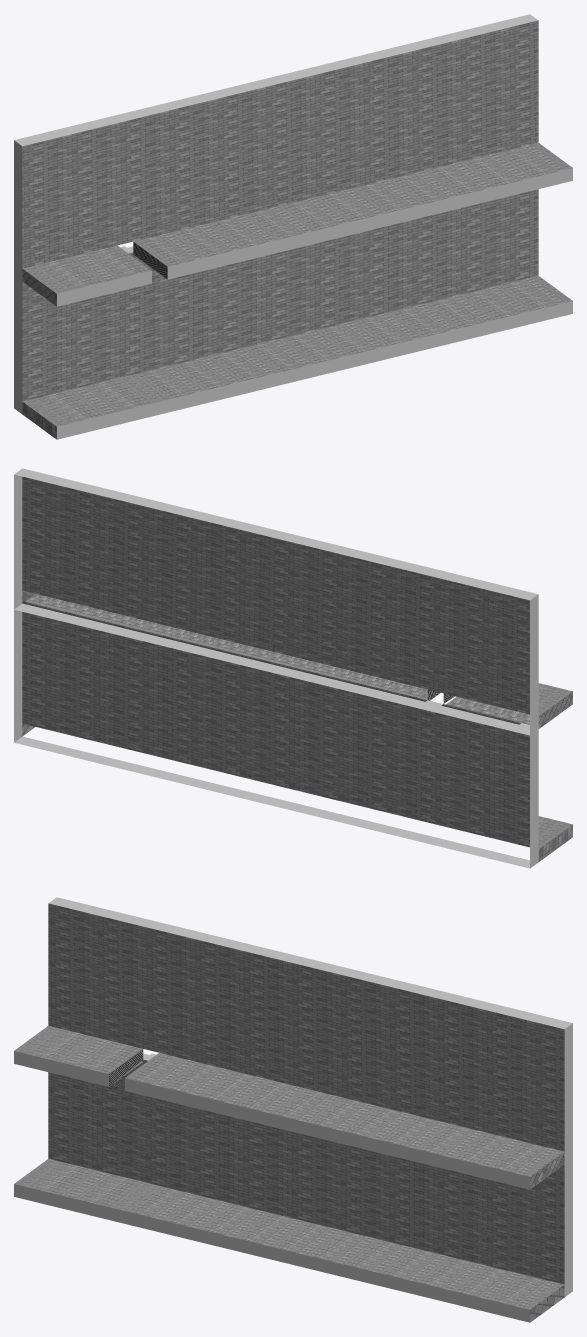
Rendered from dungeon.fbx.
3 renders of one model, top to bottom at view 1: azimuth 30°, elevation 25°; view 2: azimuth 150°, elevation 25°; view 3: azimuth 330°, elevation 25°, orthographic.
Parts seen in each view (by area): view 1: Mesh; view 2: Mesh; view 3: Mesh.
Boxes of the visible parts, x1,y1,x2,y2 form: Mesh: (14,14,572,439); Mesh: (14,468,572,868); Mesh: (14,897,572,1322).
Size of the model in its own units: 24770 by 12301 by 3565.
5 materials, 4 textured.
